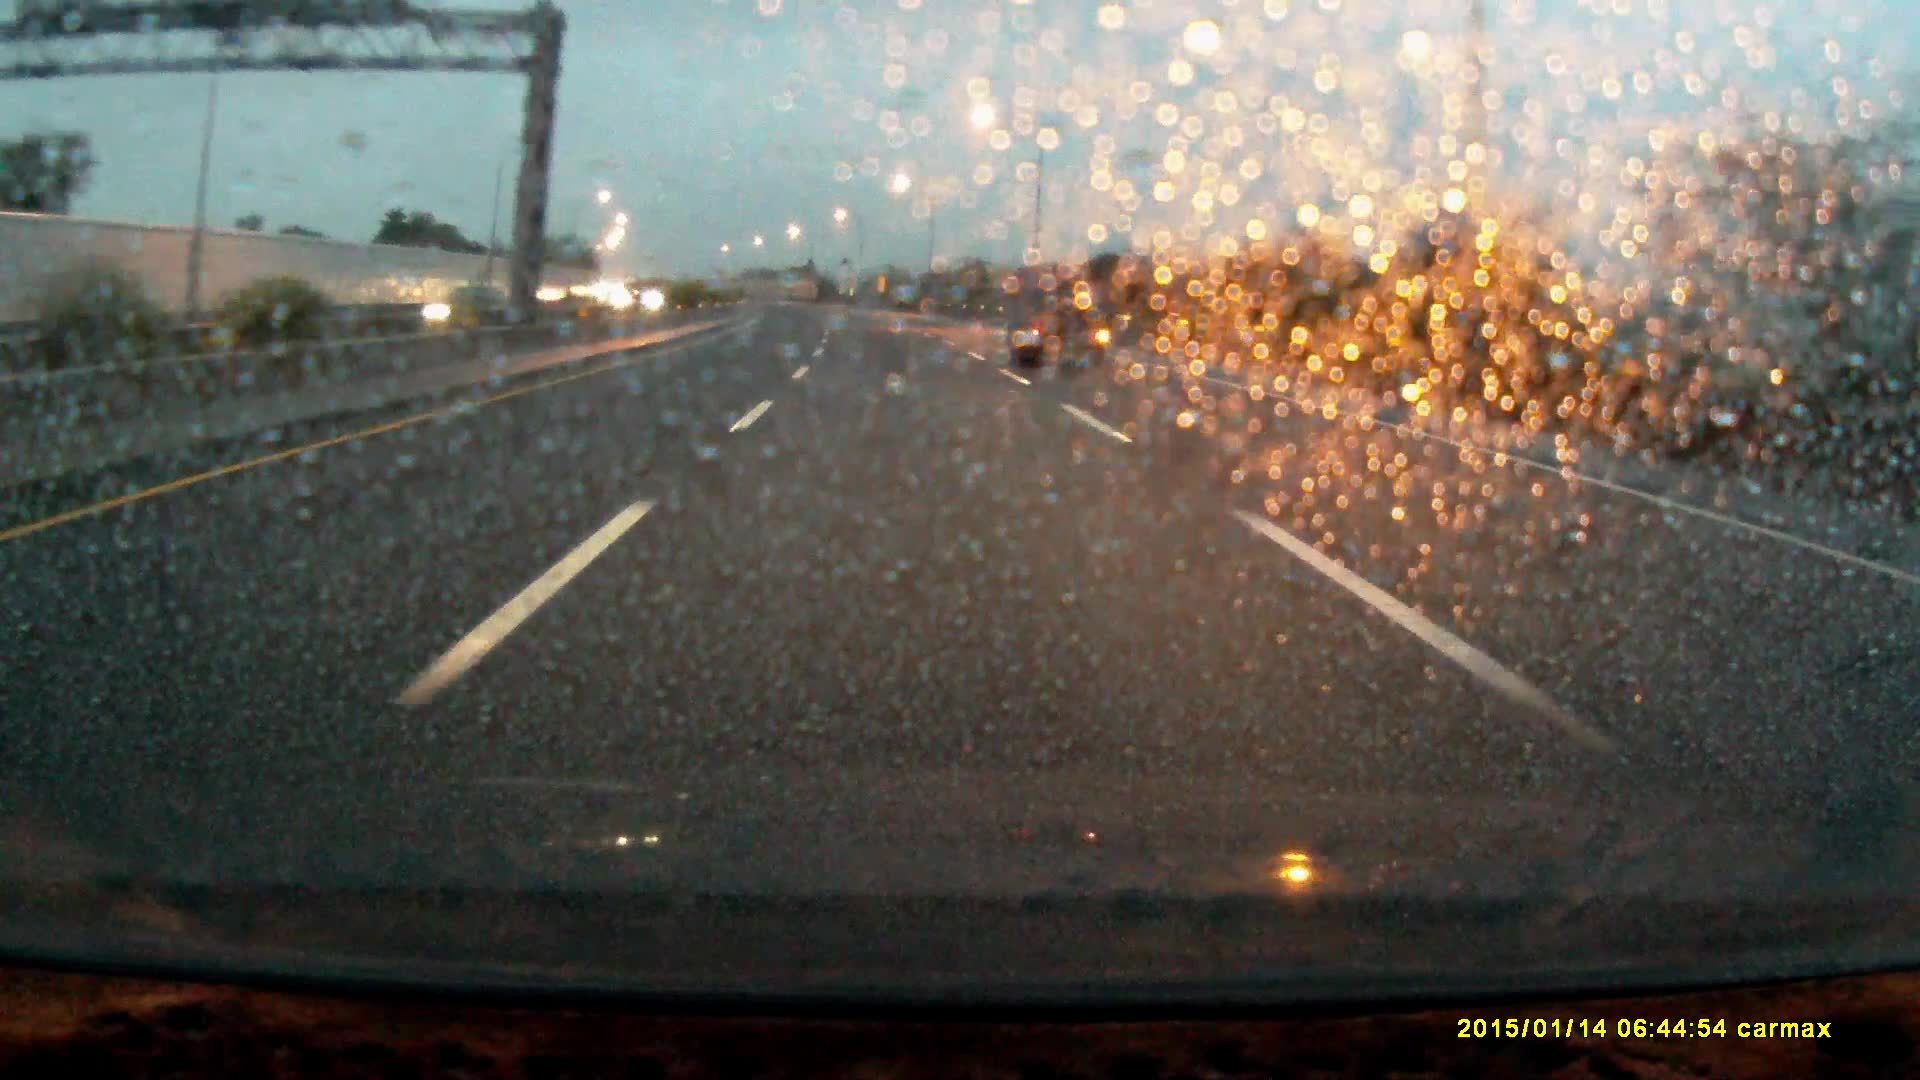vehicle: (1011, 276, 1105, 371)
